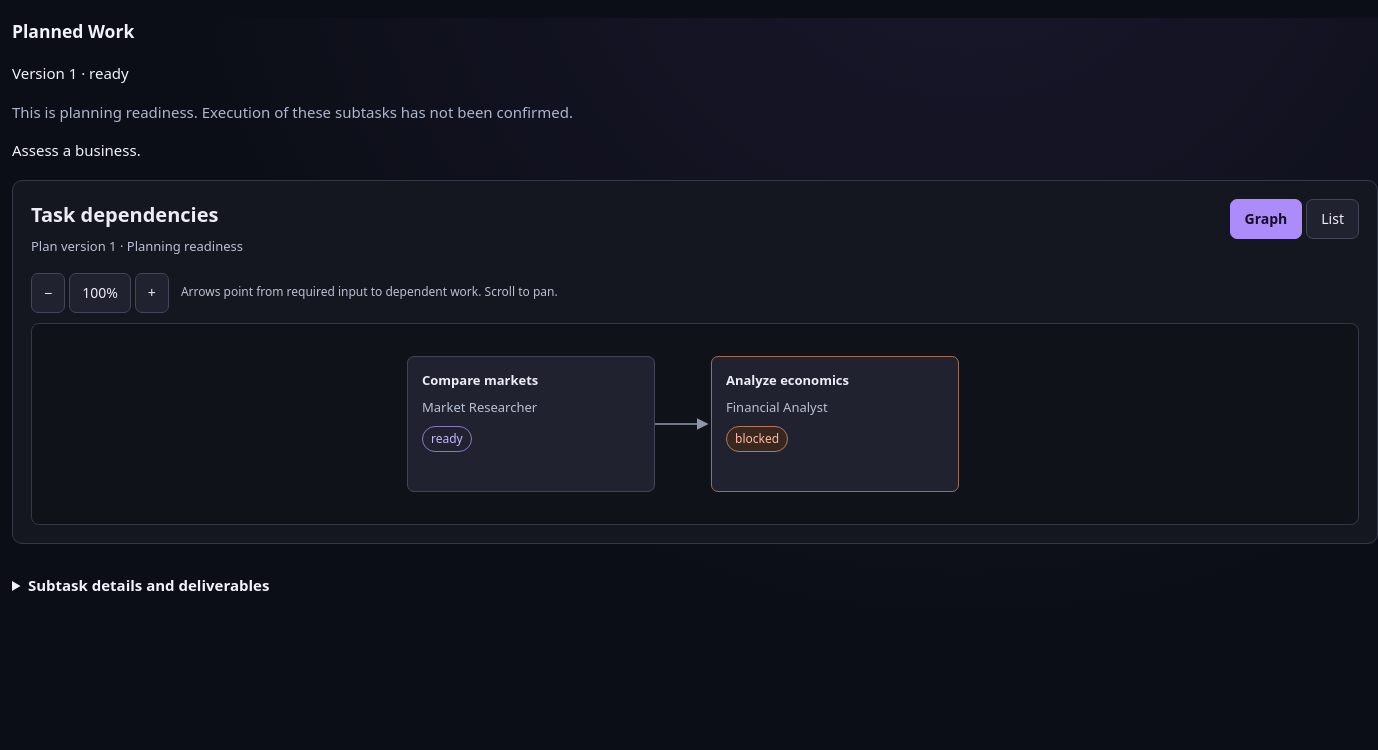
Test case: shows planned owners, dependency outputs, criteria and explicit blocked state
The width and height of the screenshot is (1378, 750).
Click the heading "Subtask details and deliverables".
click(149, 584)  # box [28,574,269,594]
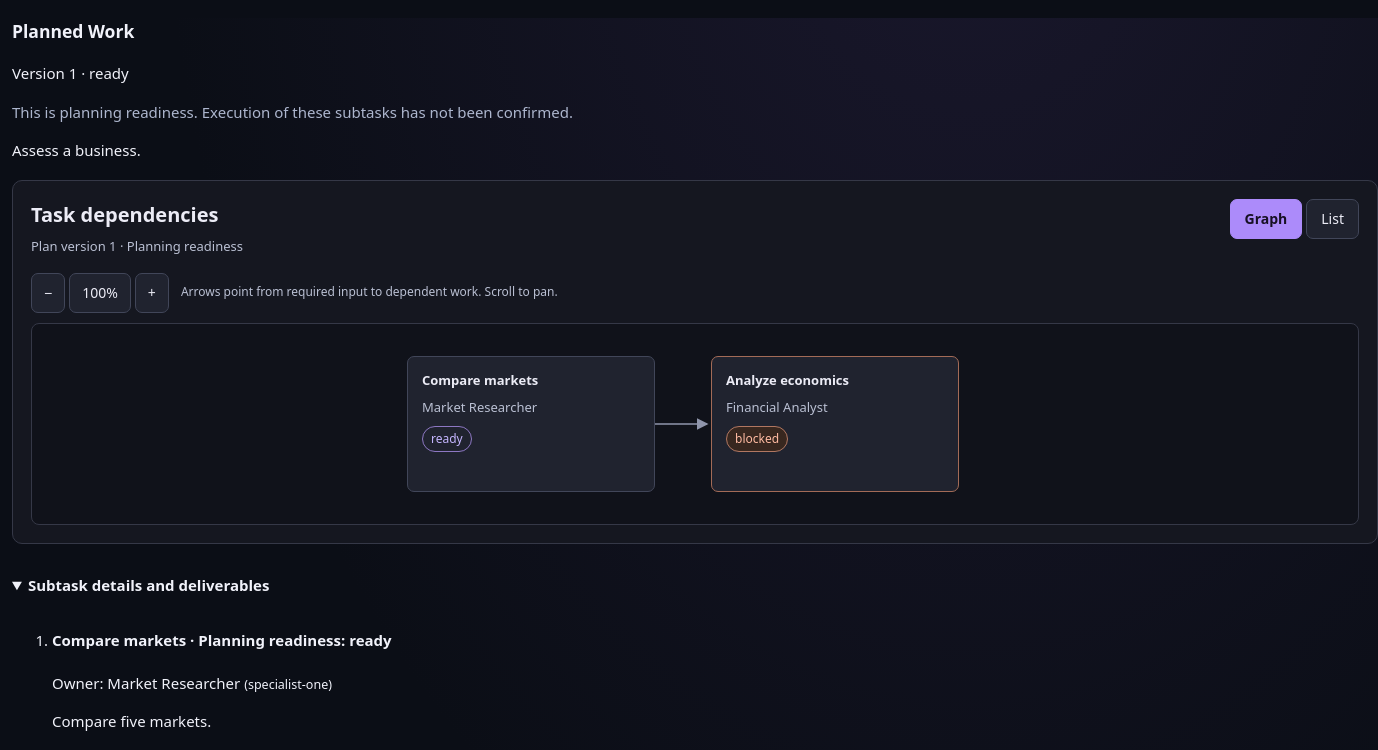
Check: the text "Execution of these subtasks has not been confirmed" is shown, box [12,102,573,122]
Check: the text "Owner: Market Researcher (specialist-one)" is shown, box [52,673,332,693]
